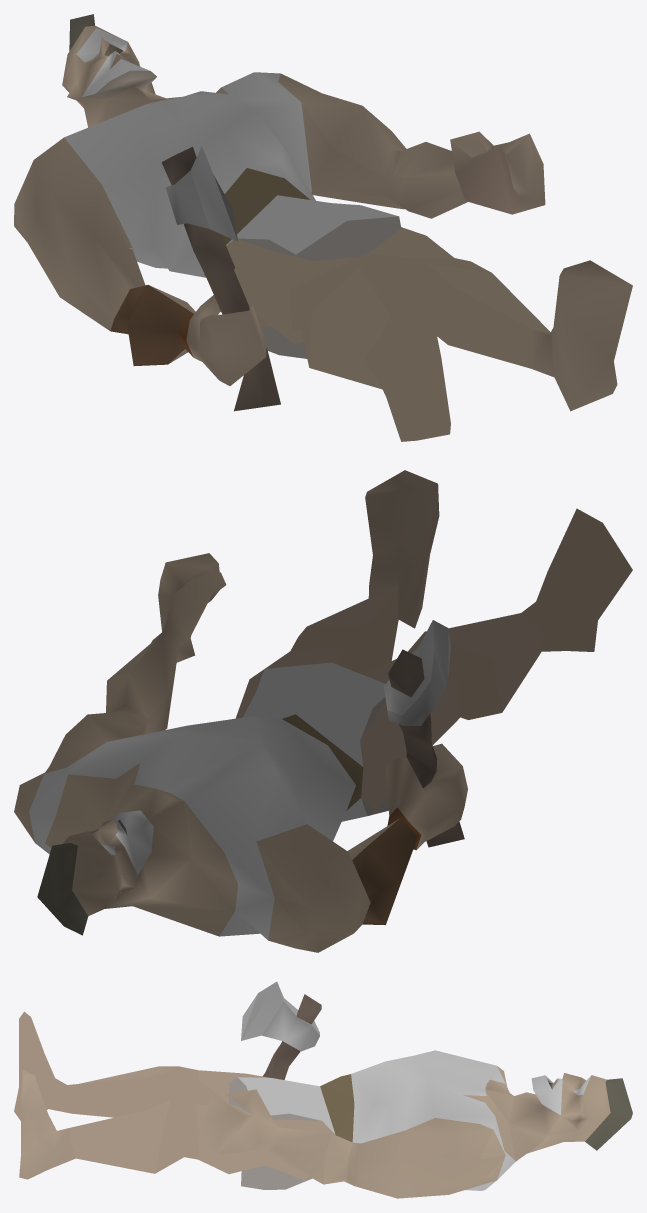
File: giant-attack.fbx
3 renders of one model, top to bottom at view 1: azimuth 30°, elevation 25°; view 2: azimuth 150°, elevation 25°; view 3: azimuth 270°, elevation 25°, orthographic. The views are drawn at different scales.
Parts seen in each view (by area): view 1: Hill_Giant_2102_frame[0].005; view 2: Hill_Giant_2102_frame[0].005; view 3: Hill_Giant_2102_frame[0].005.
Part boxes in pixels (x1=…): Hill_Giant_2102_frame[0].005: x1=14, y1=14, x2=632, y2=441; Hill_Giant_2102_frame[0].005: x1=14, y1=470, x2=632, y2=952; Hill_Giant_2102_frame[0].005: x1=14, y1=981, x2=632, y2=1198.
Bounding box in the file's own units: 15800 × 11900 × 36000.
